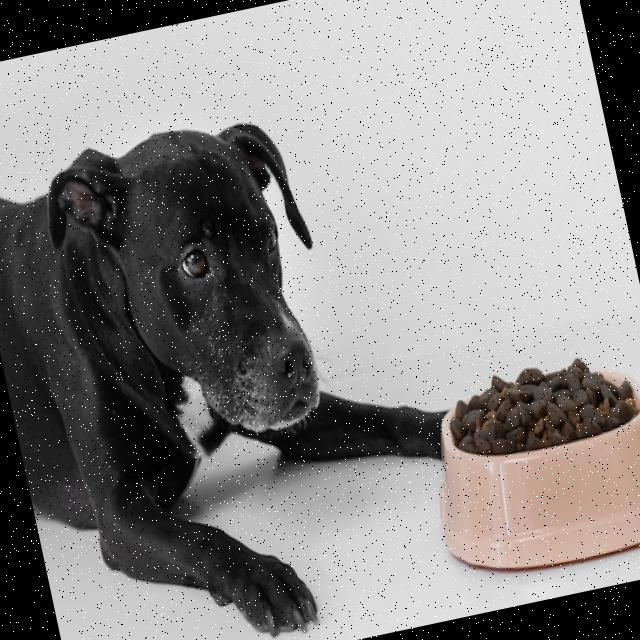Dog: (0, 85, 483, 640)
